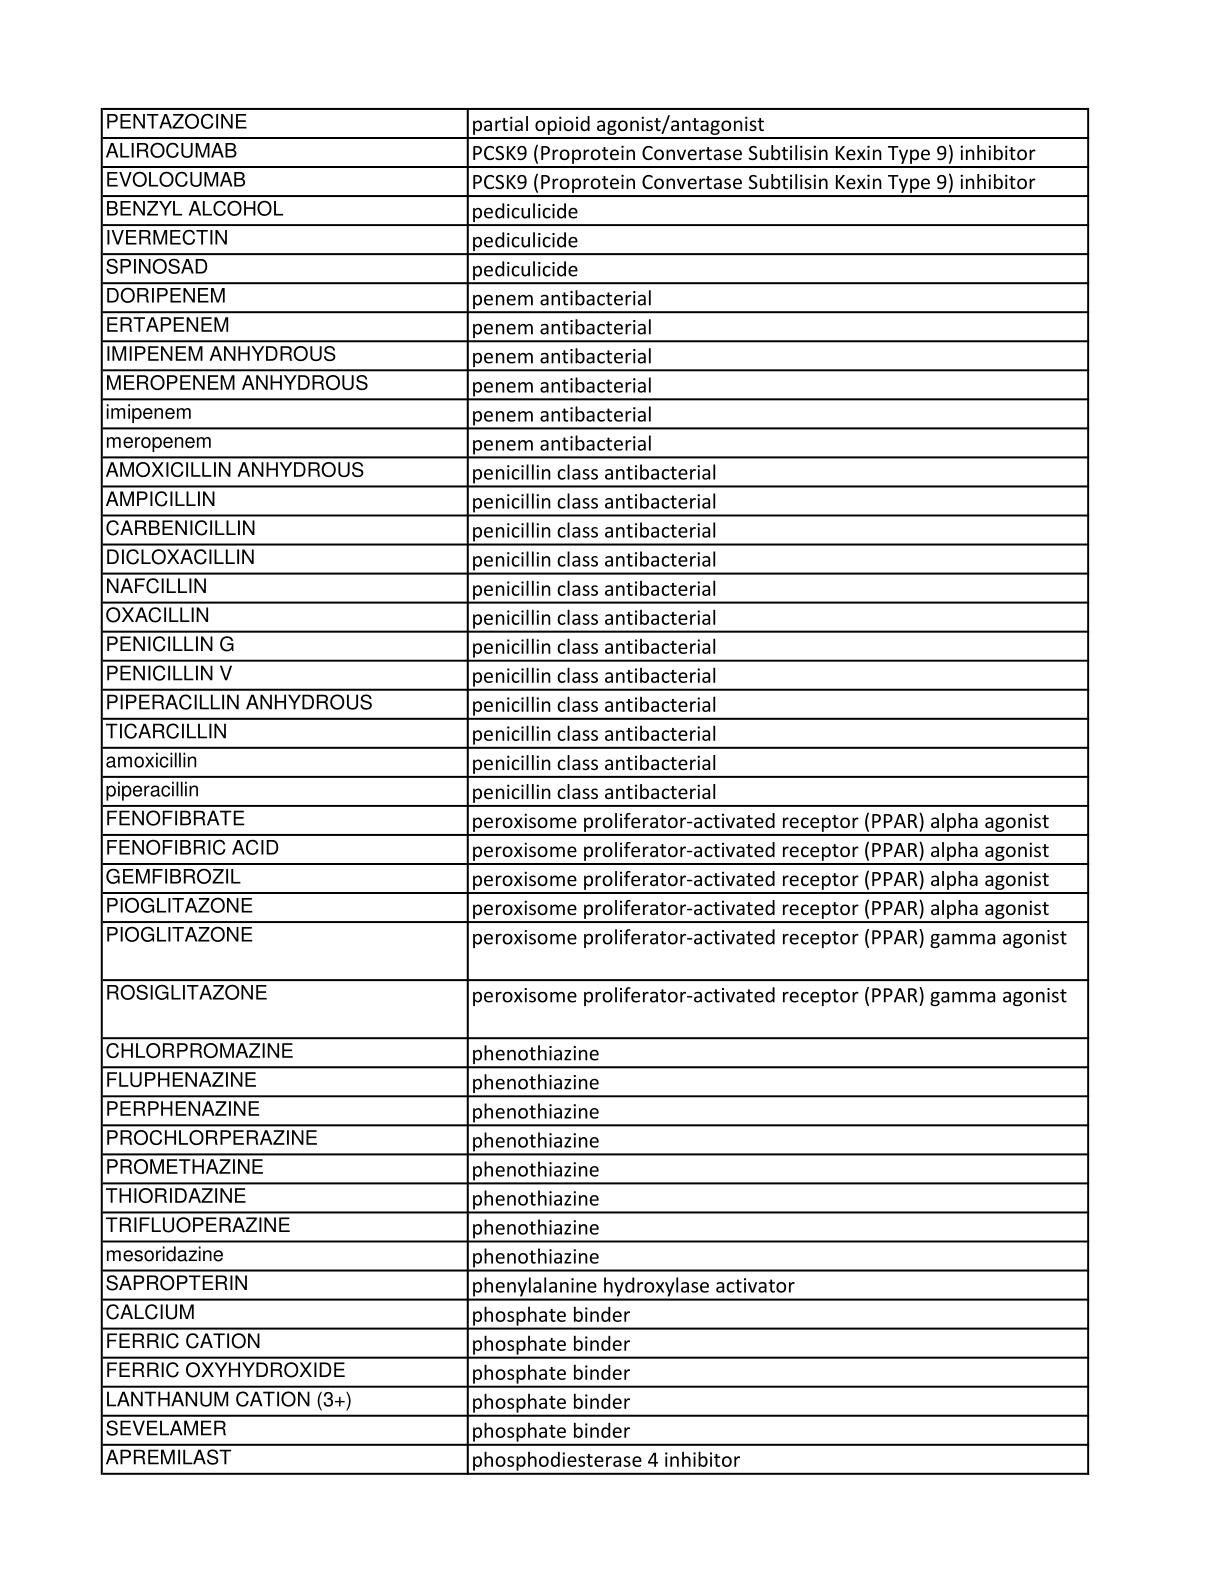full_lined: (87, 98, 1103, 1482)
